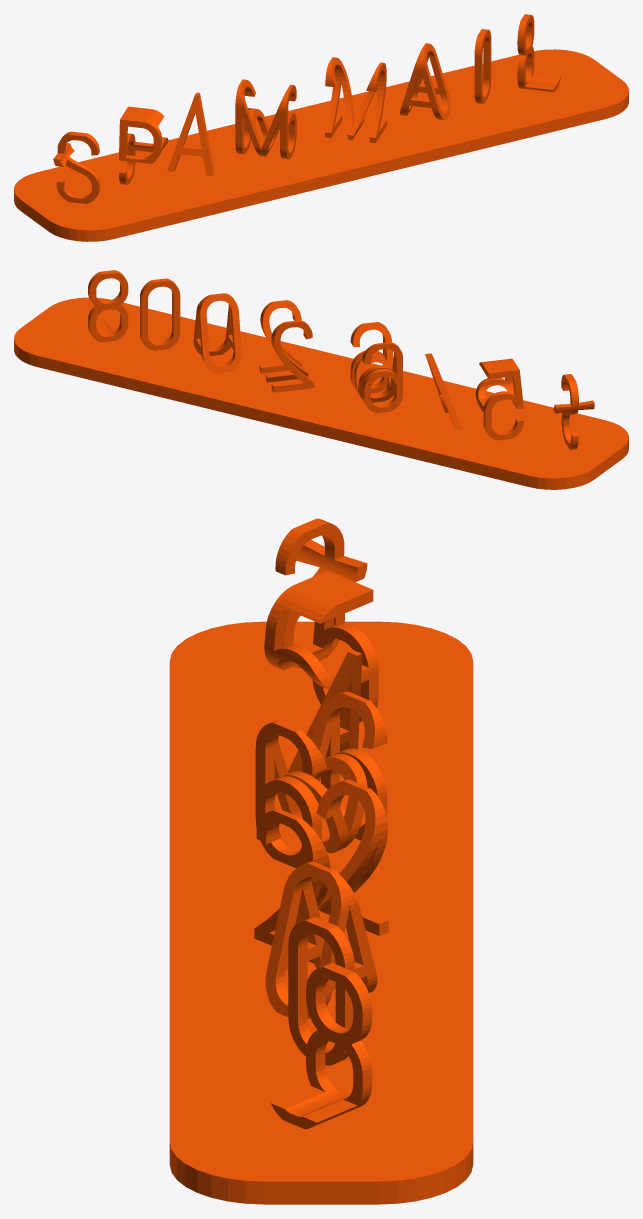
The model's file is illusion.obj.
3 renders of one model, top to bottom at view 1: azimuth 30°, elevation 25°; view 2: azimuth 150°, elevation 25°; view 3: azimuth 270°, elevation 25°, orthographic. The views are drawn at different scales.
Parts seen in each view (by area): view 1: Part_0_1; view 2: Part_0_1; view 3: Part_0_1.
Part boxes in pixels (x1=…): Part_0_1: x1=14, y1=14, x2=628, y2=241; Part_0_1: x1=14, y1=270, x2=628, y2=489; Part_0_1: x1=169, y1=518, x2=473, y2=1204.
Bounding box in the file's own units: 26.19 × 3.46 × 6.
